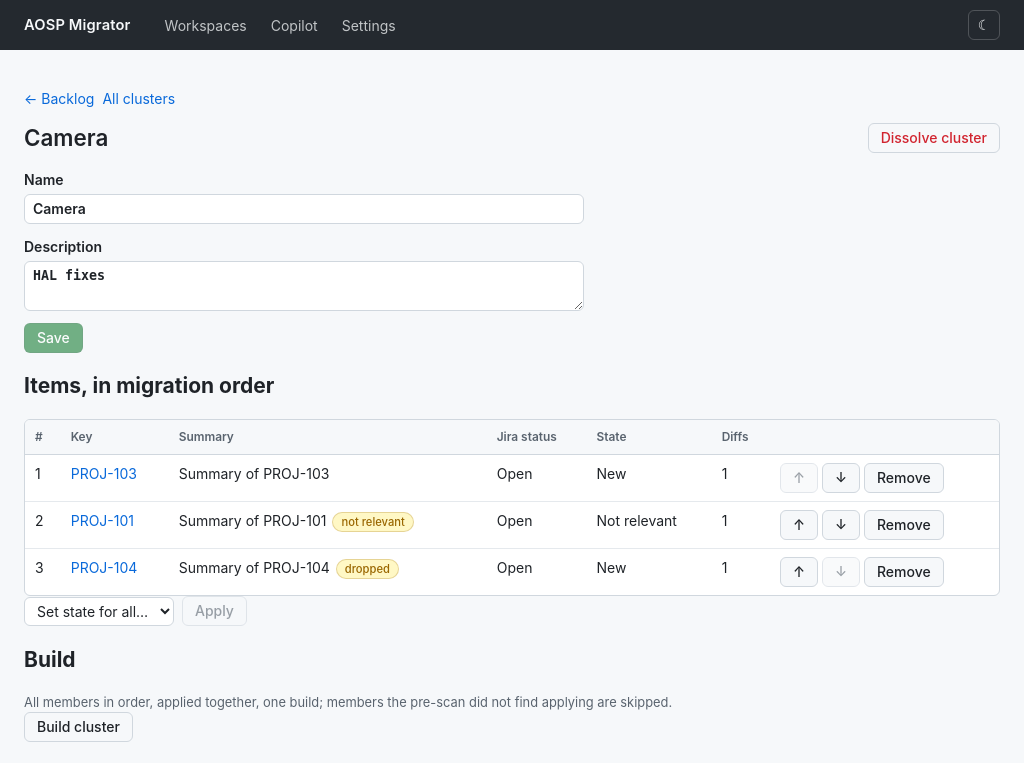
Test: ClusterPage build › builds the cluster as one unit
The width and height of the screenshot is (1024, 763).
Click the button "Build cluster" at (78, 727), box [24,712,133,742]
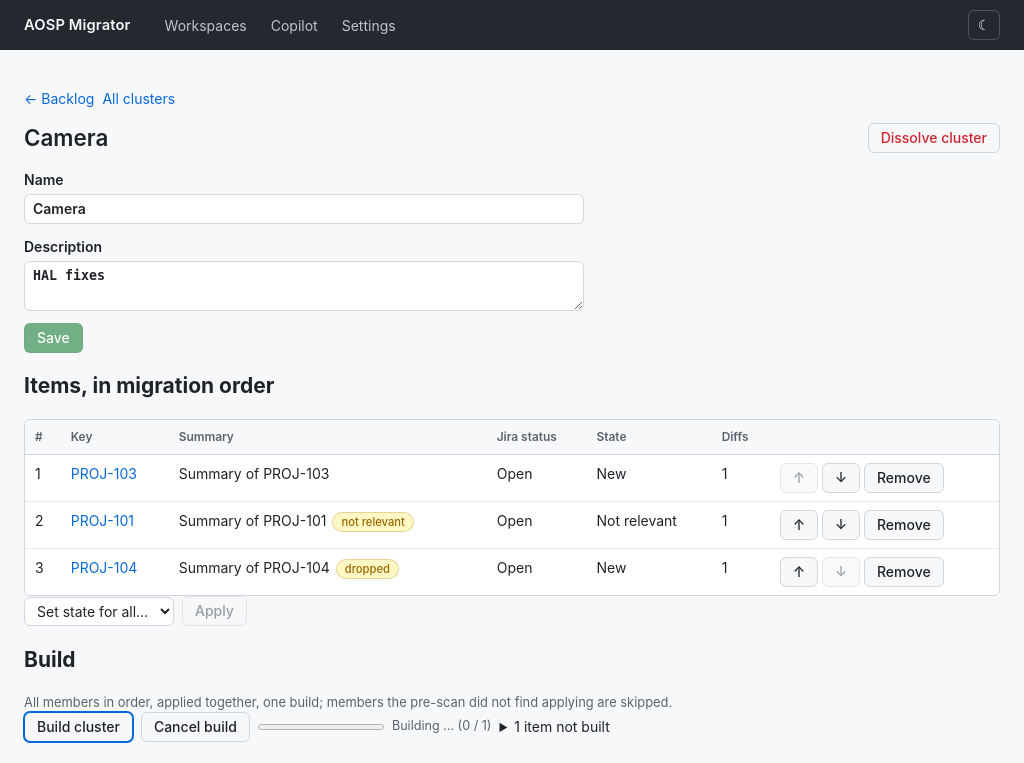
Check: the text "Building … (0 / 1)" is shown, box [258,717,492,736]
Check: the heading "1 item not built" is shown, box [500,716,610,737]
